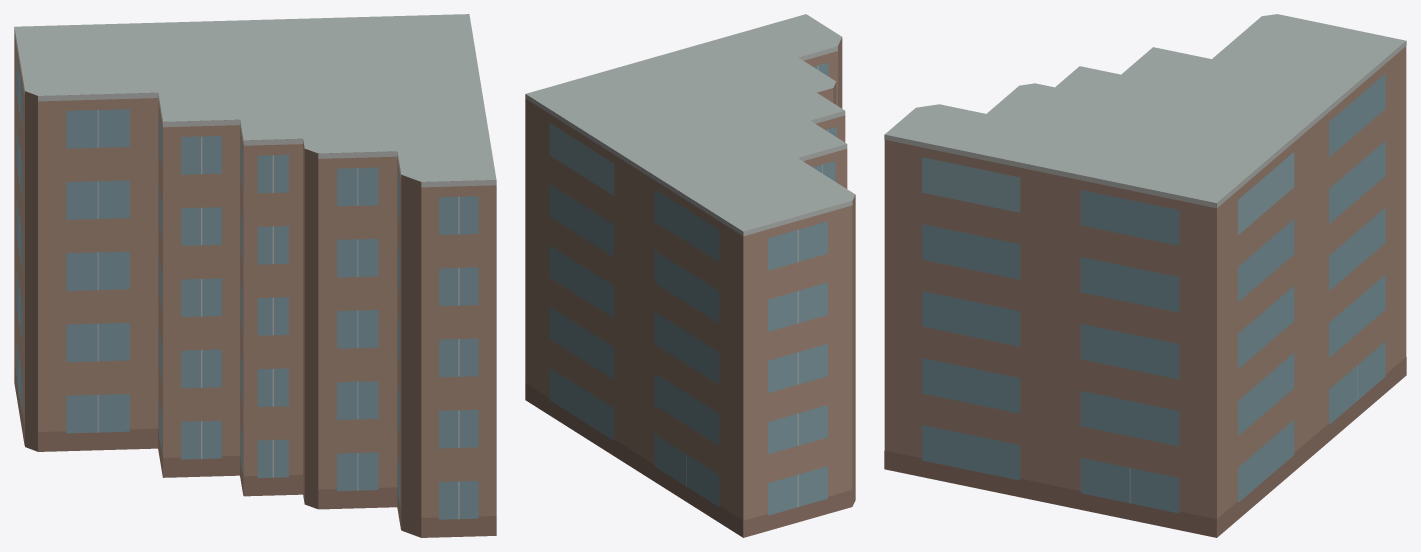
File: survey-upis-32525599.glb
3 views of the same model, side by side, from view 1: azimuth 30°, elevation 25°; view 2: azimuth 150°, elevation 25°; view 3: azimuth 270°, elevation 25° (orthographic). The views are drawn at different scales.
Parts seen in each view (by area): view 1: survey-upis-32525599.tmp; view 2: survey-upis-32525599.tmp; view 3: survey-upis-32525599.tmp.
Part boxes in pixels (x1,y1,x2,y2): survey-upis-32525599.tmp: [14, 14, 496, 537]; survey-upis-32525599.tmp: [525, 14, 855, 537]; survey-upis-32525599.tmp: [884, 14, 1406, 537].
Bounding box in the file's own units: 19.34 × 15.95 × 22.55.
